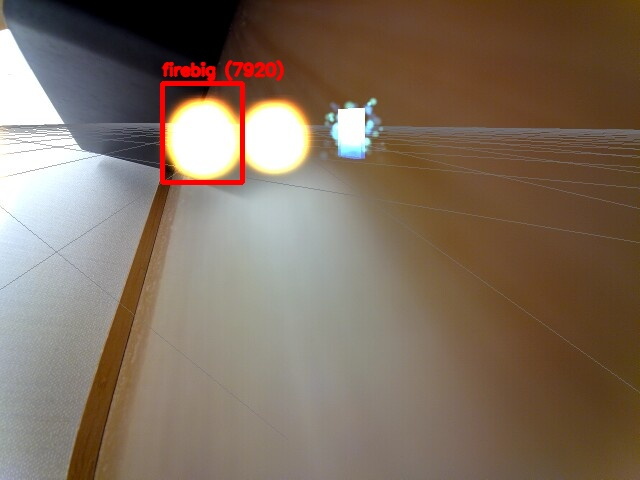firebig: (162, 83, 242, 182)
